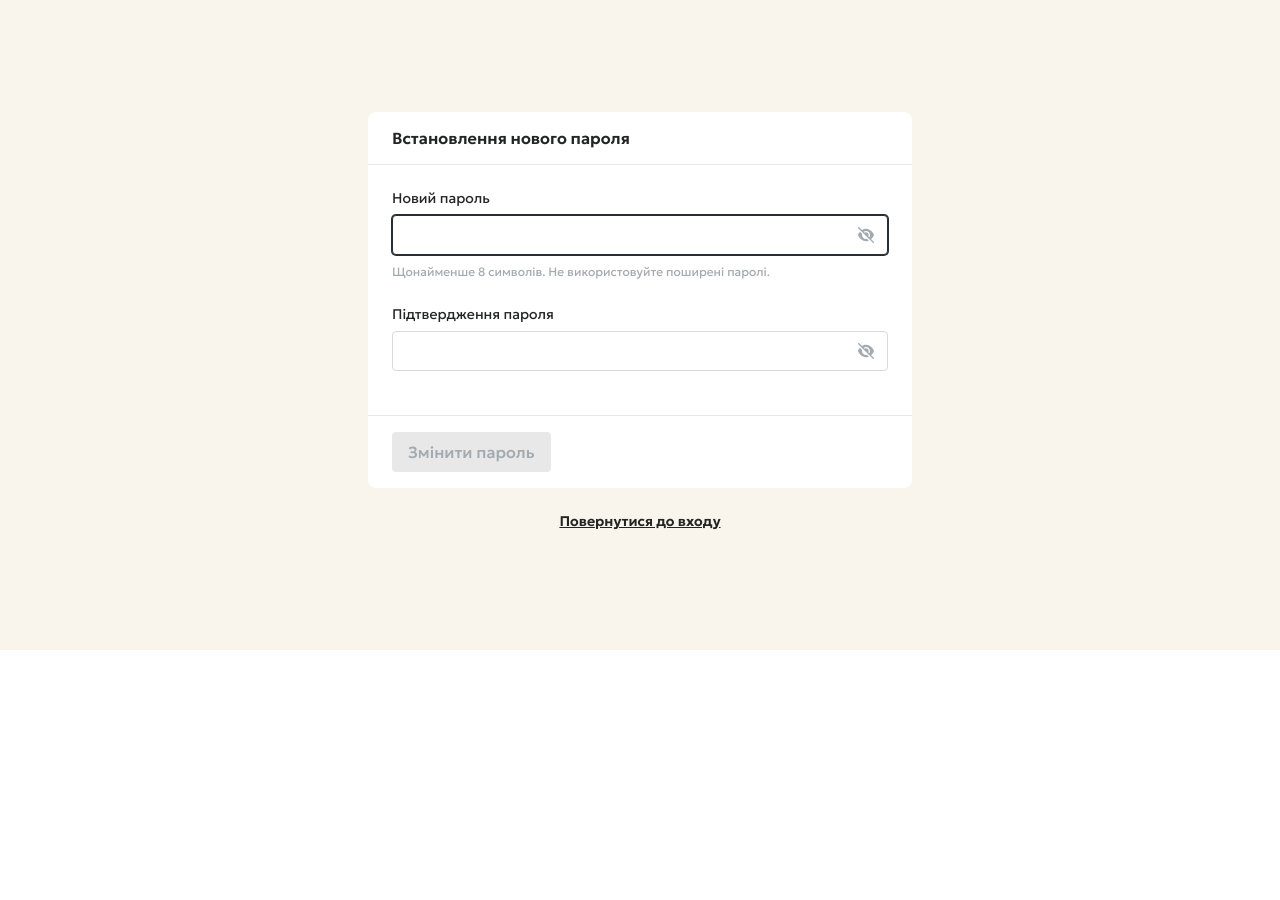
it: RestorePassword page › shows a resend link when the token is invalid or expired
The image size is (1280, 900).
Type "SecurePass123!" into the password field labelled "Новий пароль" at (640, 235), box [392,215,888,255]
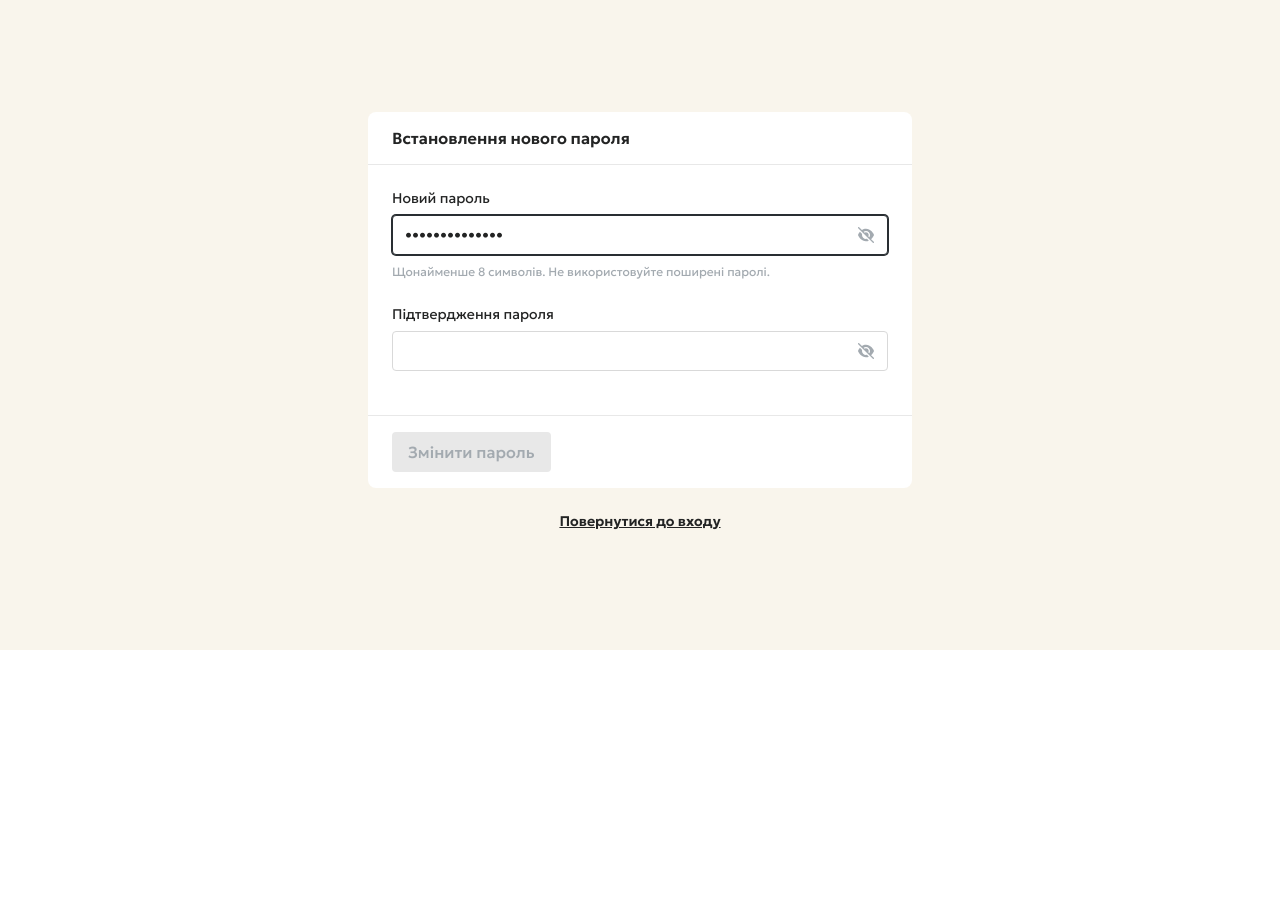
Type "SecurePass123!" into the password field labelled "Підтвердження пароля" at (640, 351), box [392,331,888,371]
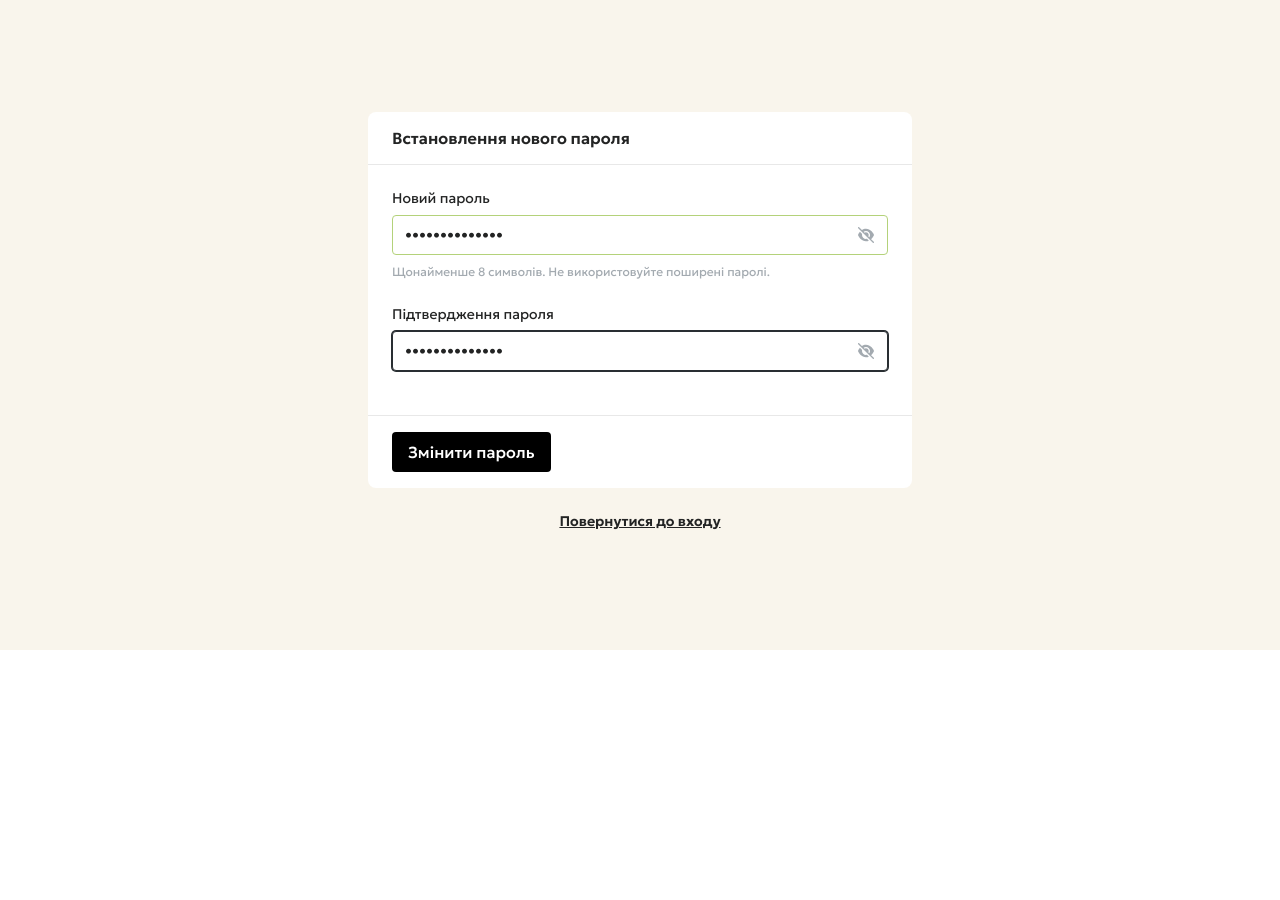
Click the button "Змінити пароль" at (471, 452), box [392,432,551,472]
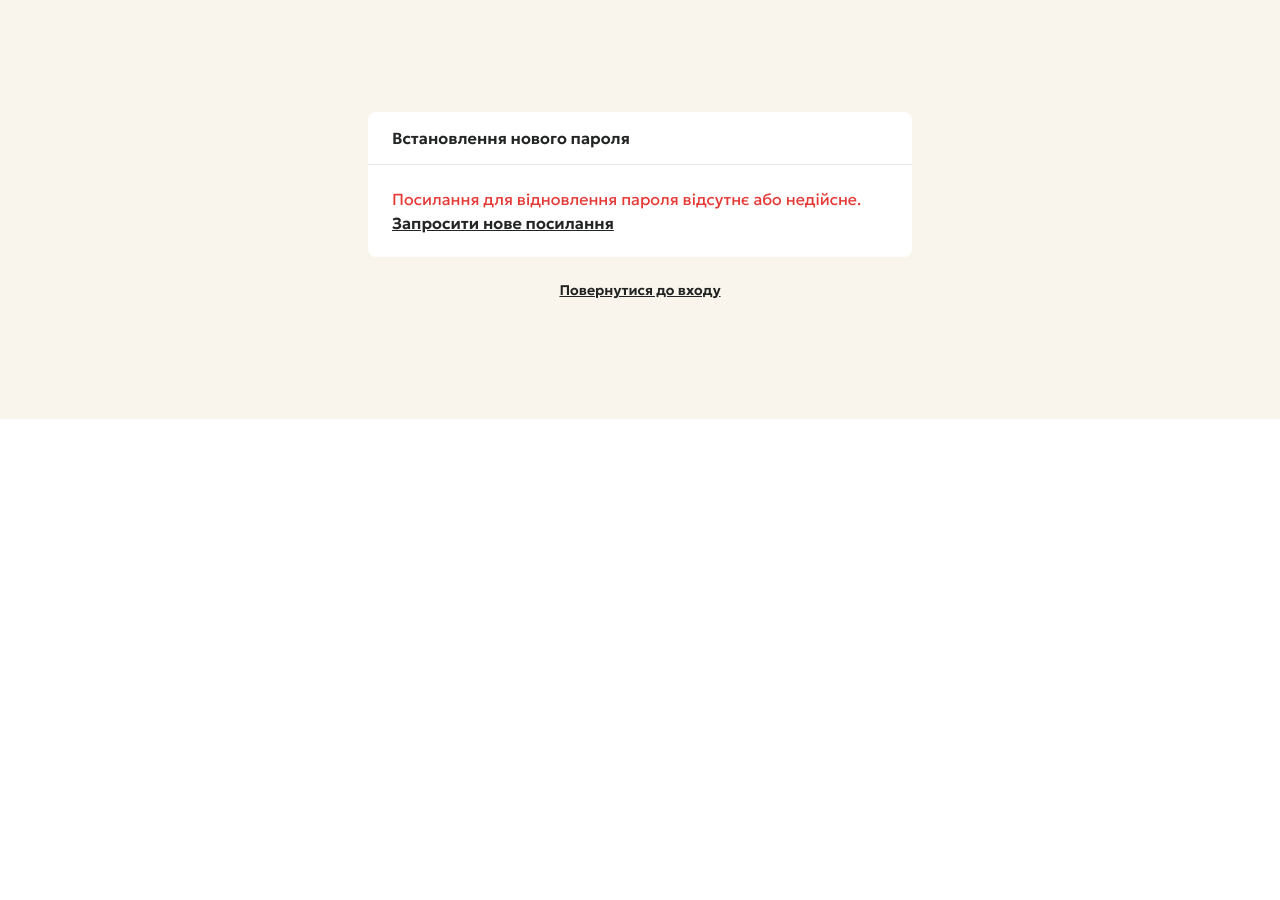
Expected: the message reads "Посилання для відновлення пароля відсутнє або недійсне.", [392,189,861,209]
